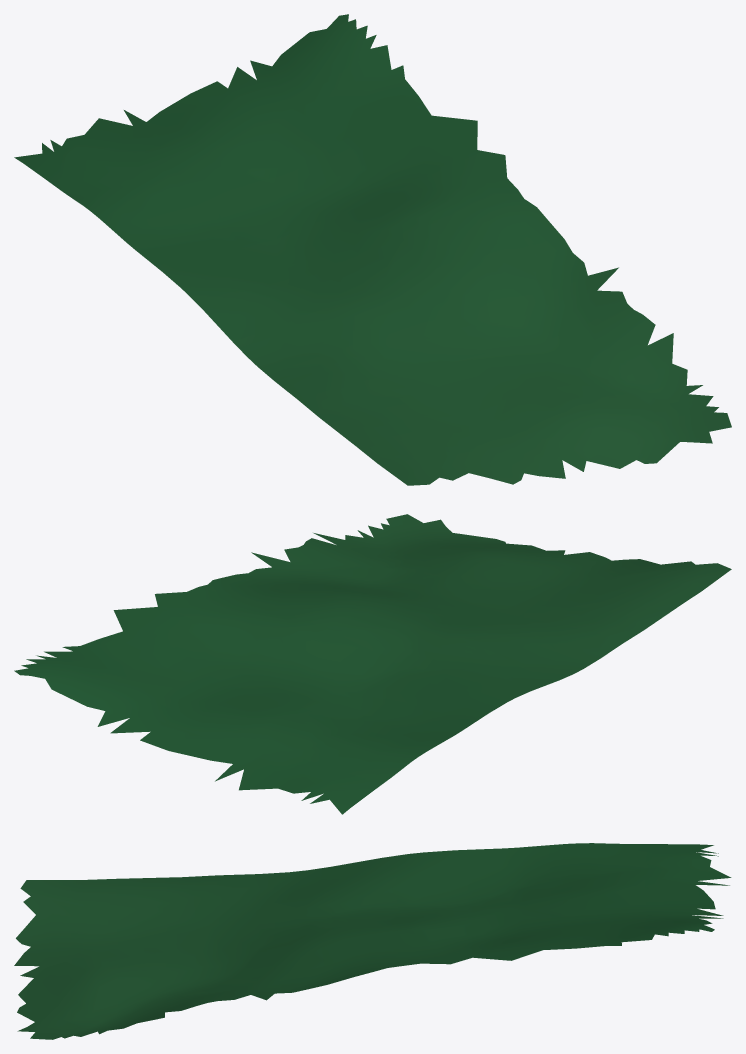
Rendered from payo_land_x4_y4.glb.
3 renders of one model, top to bottom at view 1: azimuth 30°, elevation 25°; view 2: azimuth 150°, elevation 25°; view 3: azimuth 270°, elevation 25°, orthographic. The views are drawn at different scales.
Visible parts, largest first — view 1: payo_land_x4_y4; view 2: payo_land_x4_y4; view 3: payo_land_x4_y4.
Boxes of the visible parts, box(x1,y1,x2,y2) form: payo_land_x4_y4: box(14, 14, 731, 485); payo_land_x4_y4: box(14, 514, 731, 814); payo_land_x4_y4: box(14, 843, 731, 1039).
Bounding box in the file's own units: 132 × 49.18 × 269.
